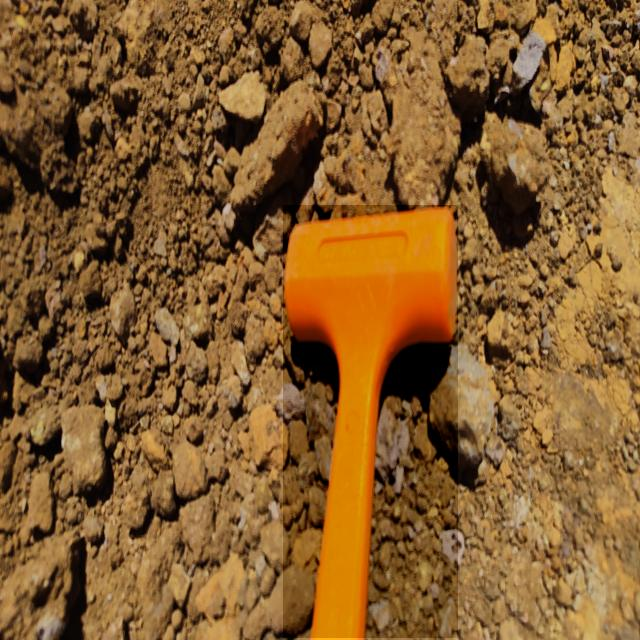Orange_hammer: (283, 205, 458, 638)
